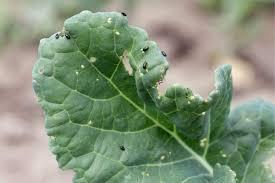Bok-Choy-Diseased: (50, 20, 182, 172)
